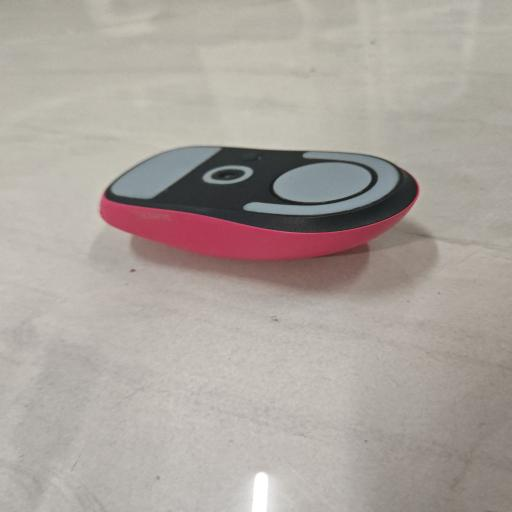mouse: (100, 146, 418, 260)
